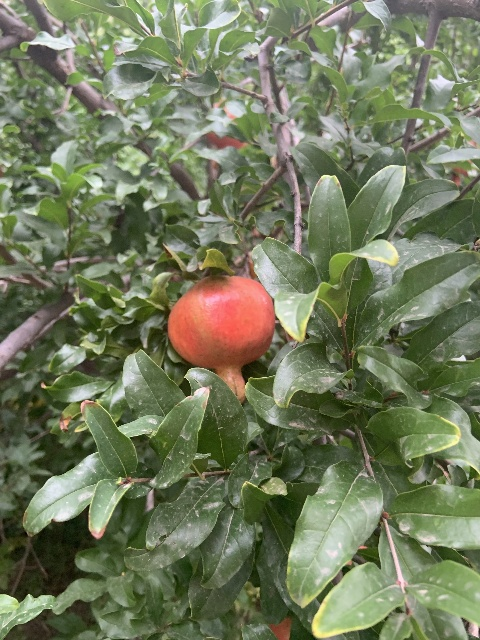ripe: (166, 275, 275, 406)
